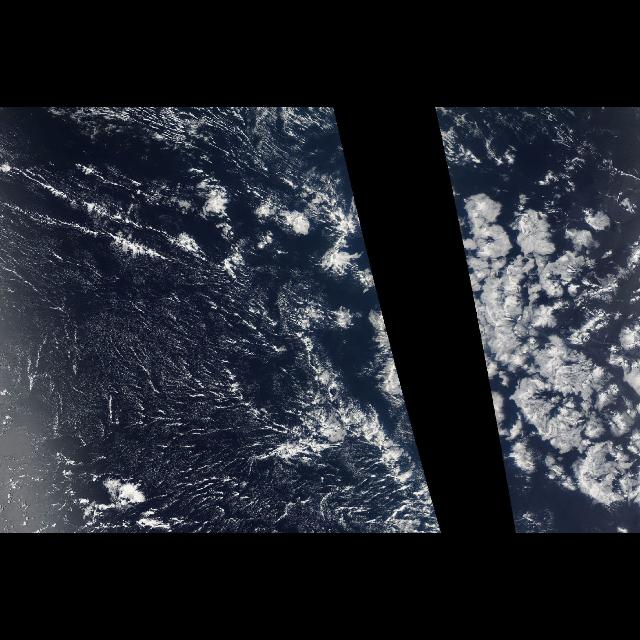Flower: (464, 171, 640, 357)
Sugar: (6, 248, 310, 532)
